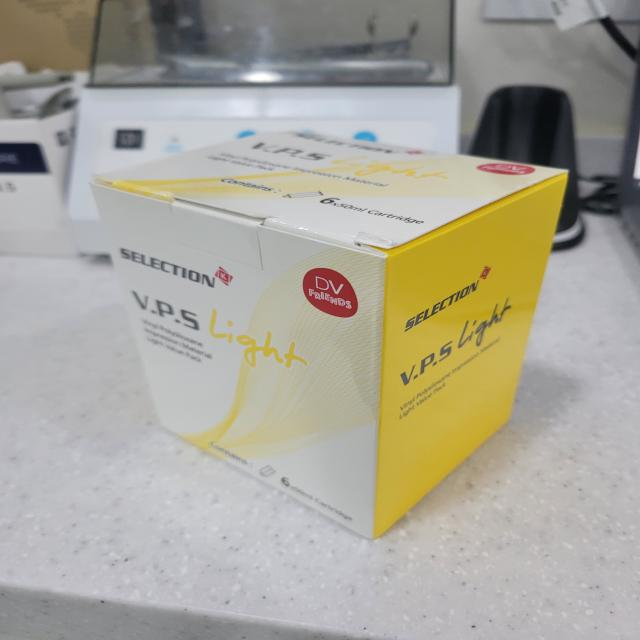impression: (73, 116, 598, 551)
